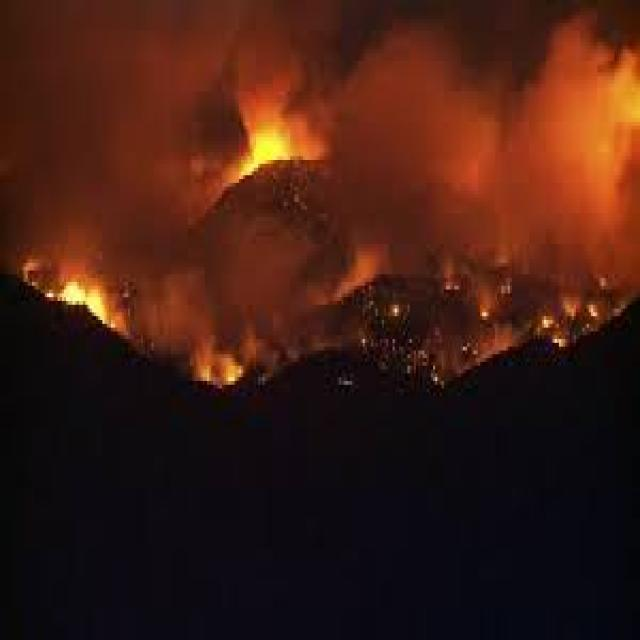Fire: (2, 213, 250, 416), (414, 225, 620, 377), (577, 30, 640, 184), (227, 79, 304, 180)
